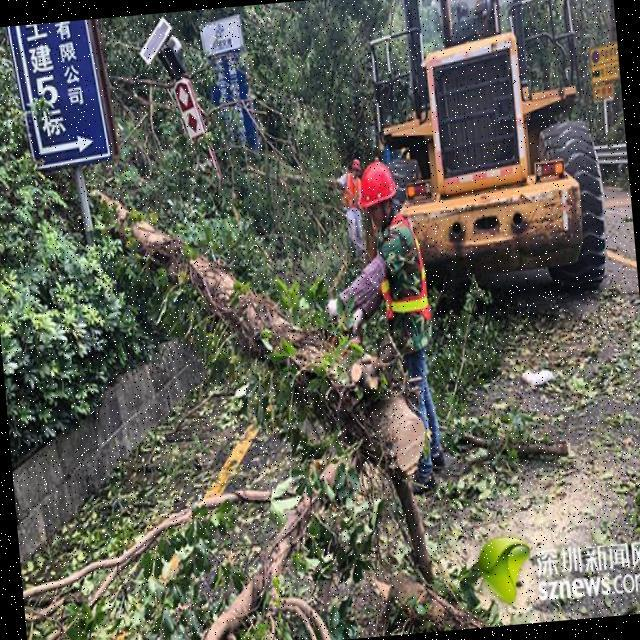fallen_object: (83, 150, 427, 506)
